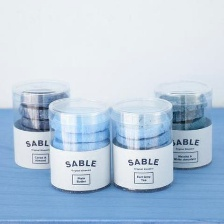plastic_box: (42, 92, 117, 196), (104, 93, 179, 196), (149, 75, 219, 172), (6, 76, 75, 172)
